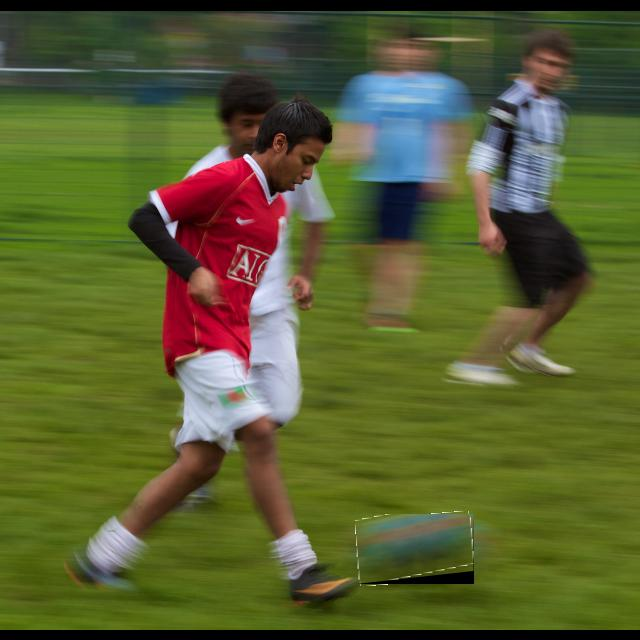Football: (356, 514, 474, 584)
